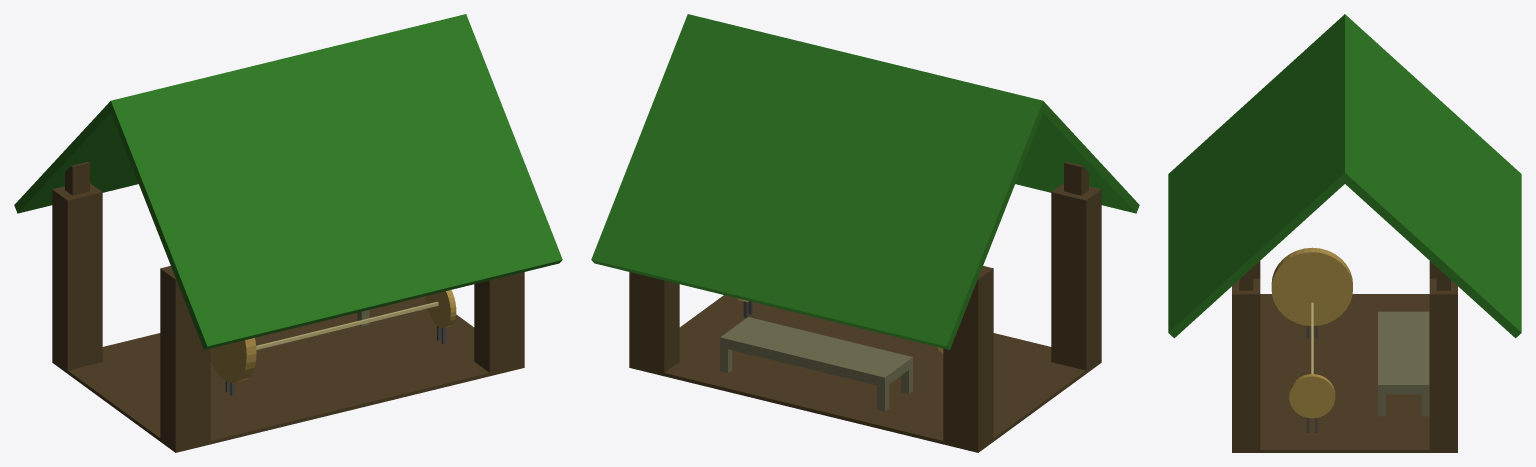
The model's file is Blacksmith_Colored.fbx.
3 views of the same model, side by side, from view 1: azimuth 30°, elevation 25°; view 2: azimuth 150°, elevation 25°; view 3: azimuth 270°, elevation 25° (orthographic). The views are drawn at different scales.
Visible parts, largest first — view 1: Plane, Cube, Plane.001, Plane.002, Cylinder.001, Cube.001, Cylinder; view 2: Plane.001, Cube, Cube.006, Plane, Plane.002; view 3: Plane, Plane.001, Cube, Cylinder.001, Cube.006, Plane.002, Cylinder.
Boxes of the visible parts, x1=… form: Plane: x1=111, y1=22, x2=562, y2=349; Cube: x1=52, y1=161, x2=524, y2=452; Plane.001: x1=14, y1=104, x2=138, y2=213; Plane.002: x1=107, y1=14, x2=469, y2=112; Cylinder.001: x1=210, y1=338, x2=256, y2=382; Cube.001: x1=256, y1=301, x2=438, y2=349; Cylinder: x1=425, y1=290, x2=456, y2=327; Plane.001: x1=591, y1=22, x2=1042, y2=349; Cube: x1=629, y1=161, x2=1101, y2=452; Cube.006: x1=720, y1=317, x2=912, y2=411; Plane: x1=1015, y1=104, x2=1139, y2=213; Plane.002: x1=684, y1=14, x2=1046, y2=112; Plane: x1=1168, y1=20, x2=1344, y2=338; Plane.001: x1=1345, y1=20, x2=1521, y2=338; Cube: x1=1232, y1=261, x2=1457, y2=452; Cylinder.001: x1=1271, y1=247, x2=1352, y2=325; Cube.006: x1=1378, y1=311, x2=1429, y2=416; Plane.002: x1=1339, y1=14, x2=1350, y2=183; Cylinder: x1=1289, y1=374, x2=1335, y2=418.
Bounding box in the file's own units: 431 × 357 × 406.
